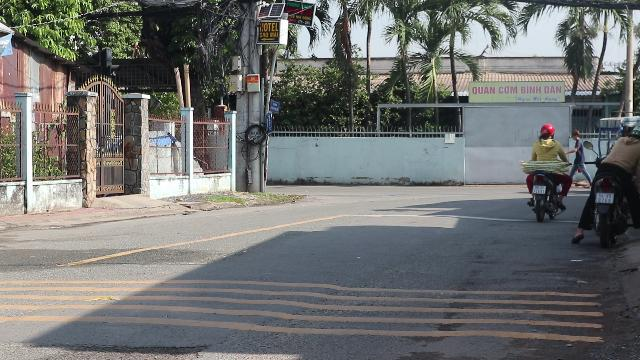helmet: (619, 116, 639, 138)
licenseplate: (595, 192, 613, 202)
motorcyclist: (576, 114, 640, 244)
